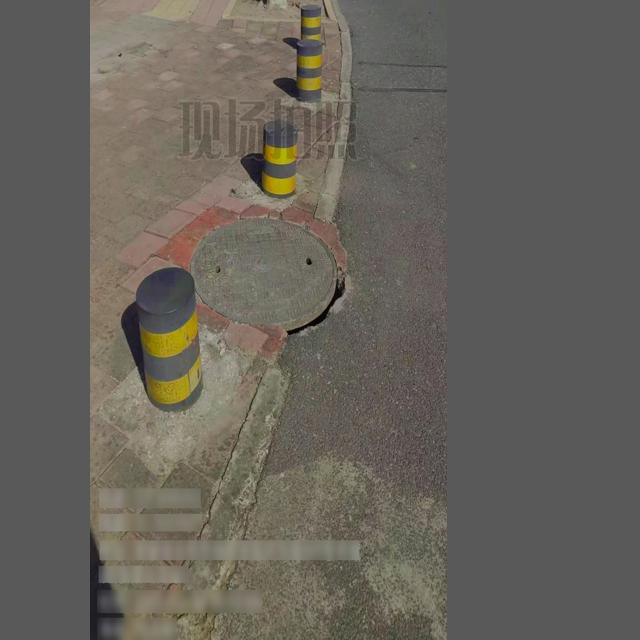circle: (187, 208, 349, 344)
